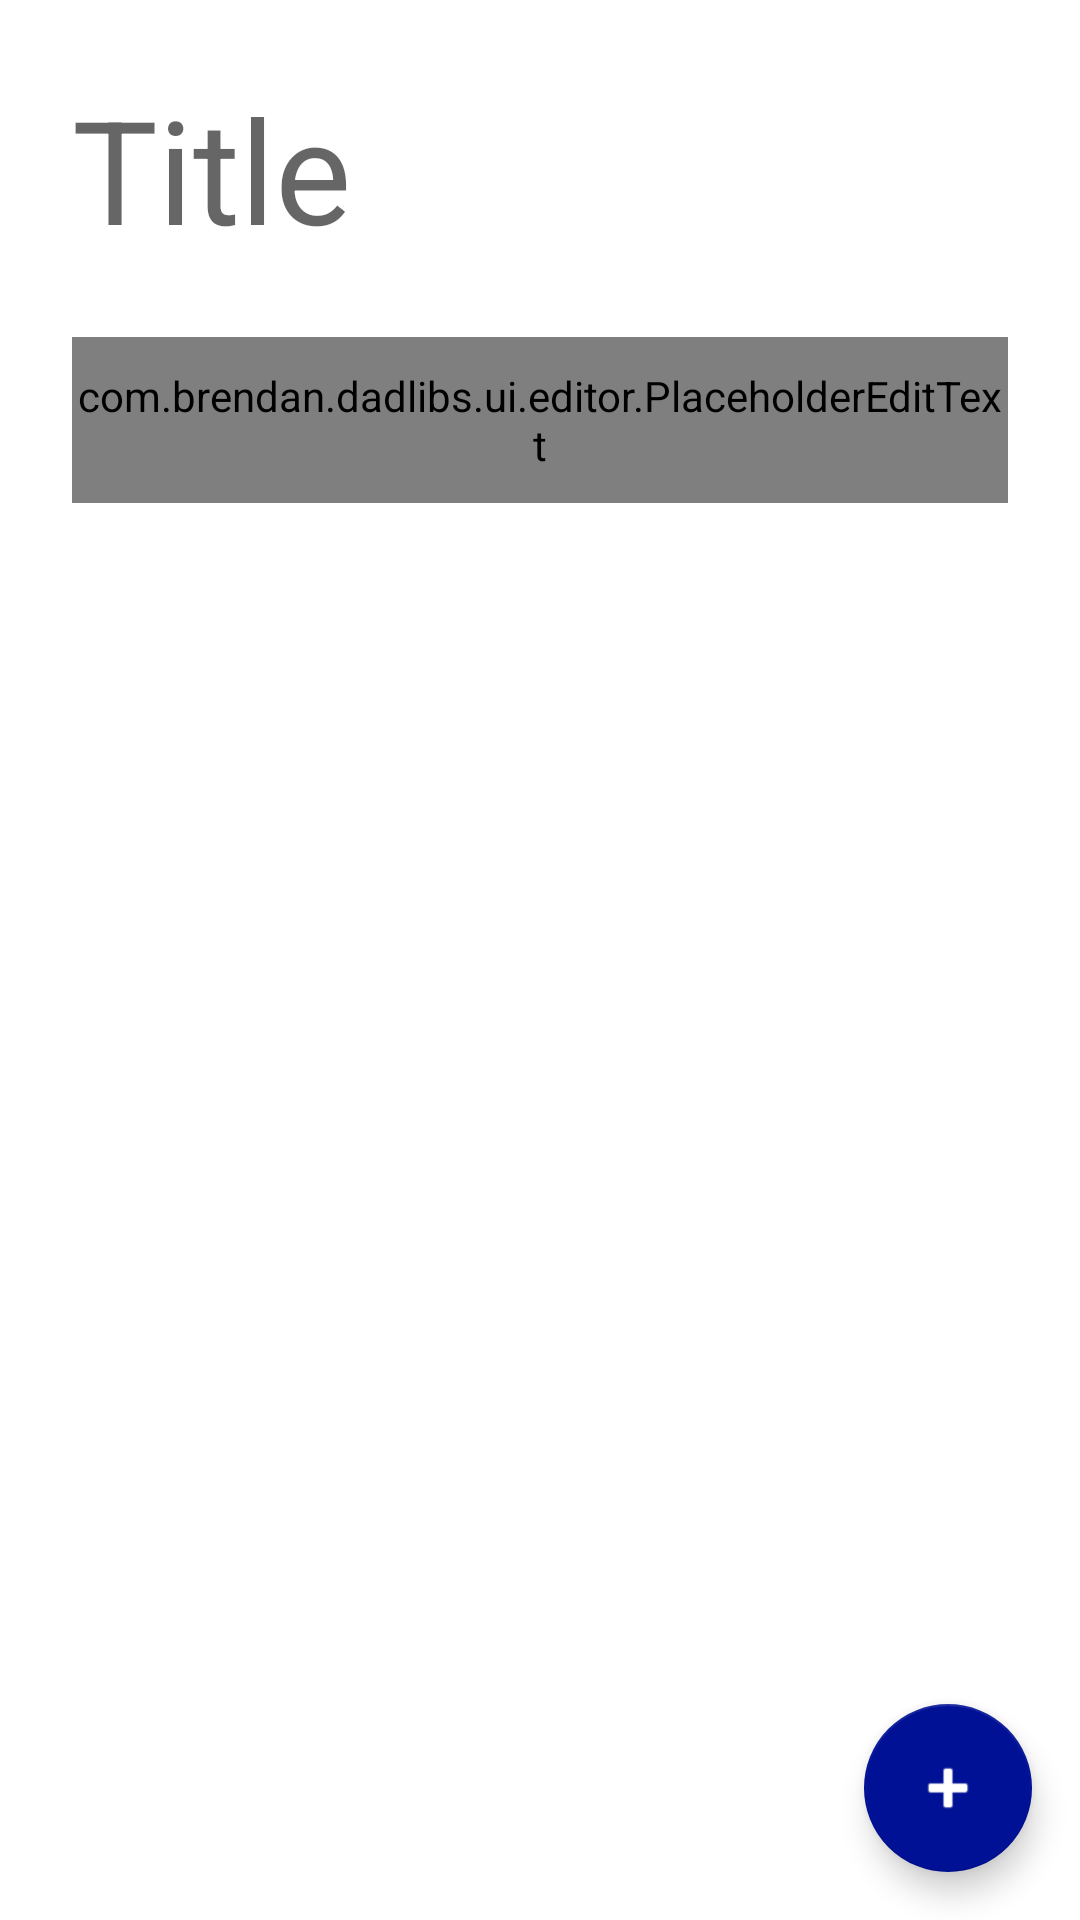

Where to tap for icons on this 1080px x 1920px app screen, as point (x, y):
Add placeholder: point (948, 1788)
